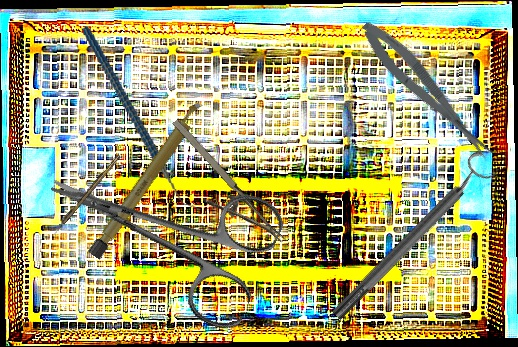Chopper: (82, 12, 201, 227)
Fixation Ring: (322, 148, 502, 327)
Hook Surgical: (51, 153, 122, 236)
Iris Scissors: (26, 117, 291, 337)
Micro Scissor: (353, 13, 499, 169)
Needle Holder: (152, 115, 286, 265)
Scalpel Handle: (87, 99, 207, 260)
